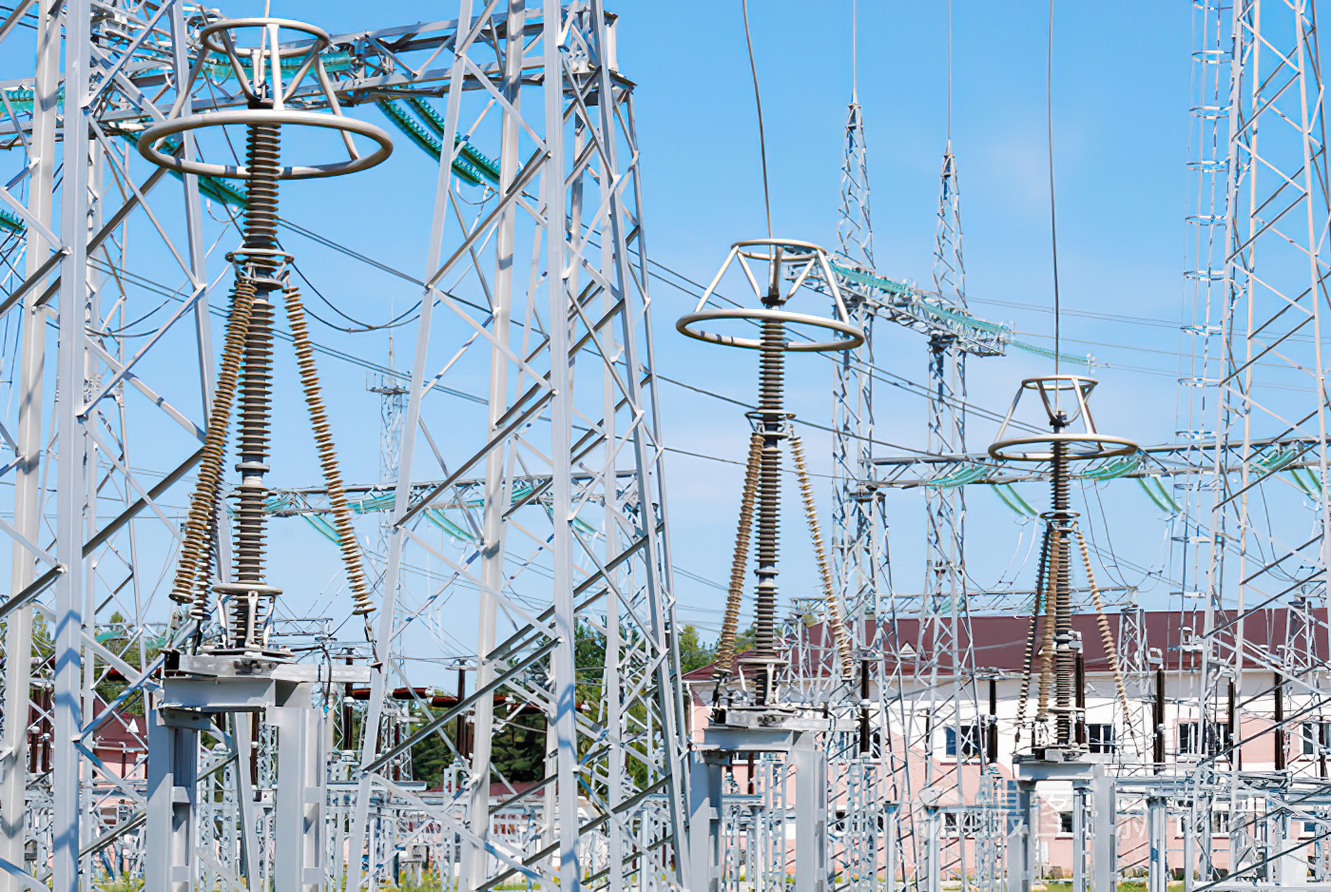insulator: (375, 78, 505, 191), (125, 124, 244, 210), (189, 45, 358, 86)
